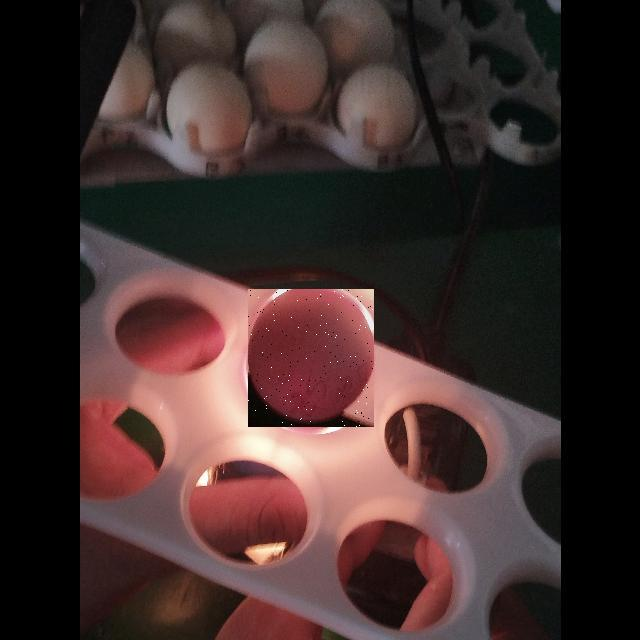Fertile: (248, 289, 374, 427)
